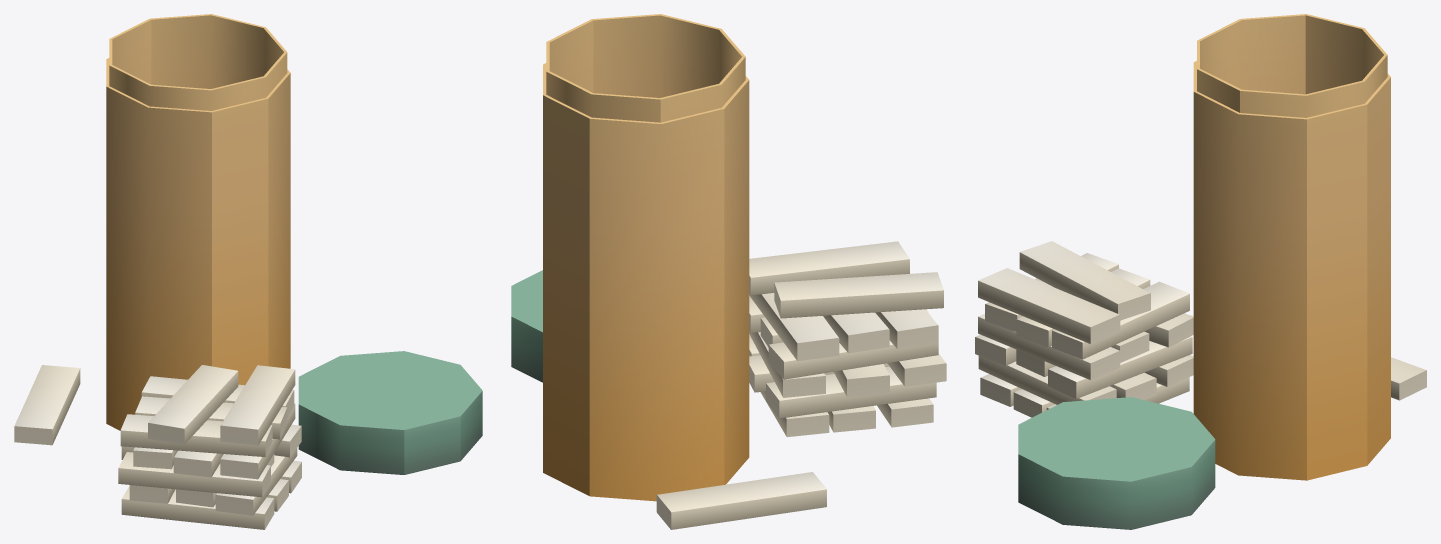
Rendered from jenga set.fbx.
The picture shows the model from 3 angles, left to right: view 1: azimuth 30°, elevation 25°; view 2: azimuth 150°, elevation 25°; view 3: azimuth 270°, elevation 25°; orthographic projection. The views are drawn at different scales.
Visible parts, largest first — view 1: Cylinder, Cube, Cylinder_1; view 2: Cylinder, Cube, Cylinder_1; view 3: Cylinder, Cube, Cylinder_1.
Boxes of the visible parts, <box> form: Cylinder: <box>106,14,290,430</box>; Cube: <box>14,365,301,529</box>; Cylinder_1: <box>298,351,482,474</box>; Cylinder: <box>543,14,749,501</box>; Cube: <box>656,241,946,529</box>; Cylinder_1: <box>511,270,542,382</box>; Cylinder: <box>1193,14,1390,480</box>; Cube: <box>975,241,1426,417</box>; Cylinder_1: <box>1018,397,1215,529</box>.
Size of the model in its own units: 317 by 297 by 317.
